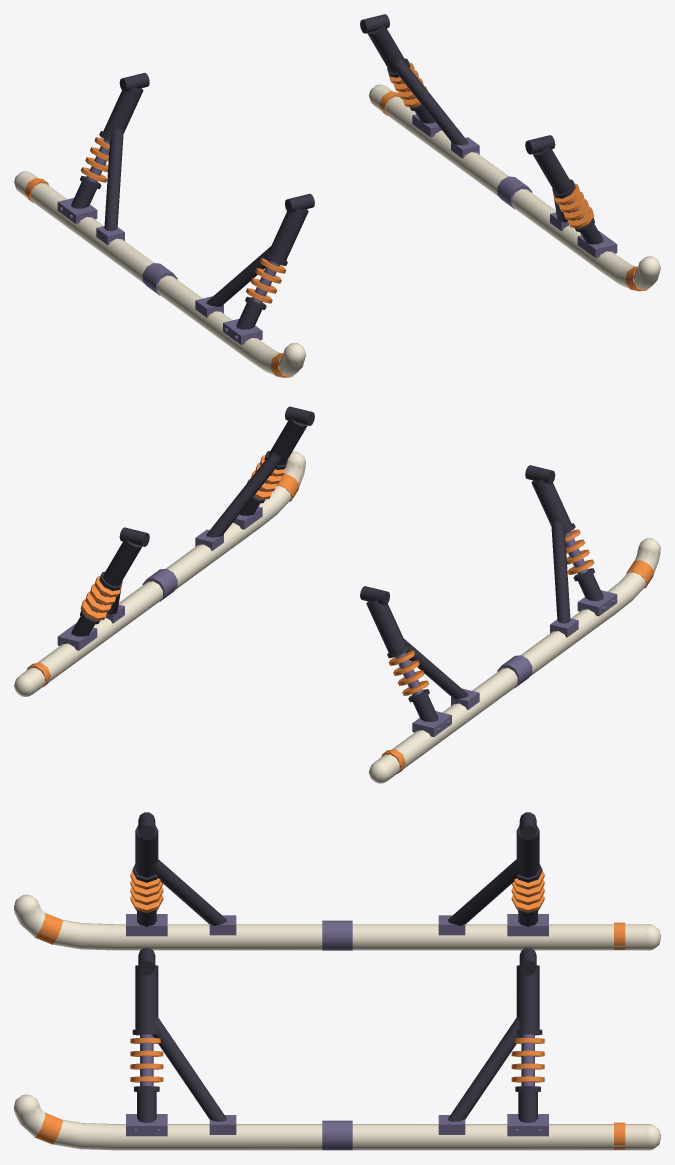
File: landing_system.glb
3 views of the same model, one above another, from view 1: azimuth 30°, elevation 25°; view 2: azimuth 150°, elevation 25°; view 3: azimuth 270°, elevation 25° (orthographic). The views are drawn at different scales.
Parts seen in each view (by area): view 1: leg_2_front_skid, leg_3_rear_skid, leg_1_front_skid, leg_4_rear_skid; view 2: leg_2_front_skid, leg_3_rear_skid, leg_1_front_skid, leg_4_rear_skid; view 3: leg_1_front_skid, leg_4_rear_skid, leg_2_front_skid, leg_3_rear_skid.
Boxes of the visible parts, box(x1,y1,x2,y2) form: leg_2_front_skid: box(149, 193, 314, 377); leg_3_rear_skid: box(14, 73, 165, 290); leg_1_front_skid: box(504, 135, 660, 291); leg_4_rear_skid: box(360, 14, 521, 203); leg_2_front_skid: box(509, 465, 660, 682); leg_3_rear_skid: box(360, 586, 525, 783); leg_1_front_skid: box(154, 406, 314, 596); leg_4_rear_skid: box(14, 527, 170, 696); leg_1_front_skid: box(14, 948, 337, 1150); leg_4_rear_skid: box(337, 948, 660, 1150); leg_2_front_skid: box(14, 812, 337, 950); leg_3_rear_skid: box(337, 812, 660, 950).
Bounding box in the file's own units: 1.33 × 0.4709 × 1.7.
